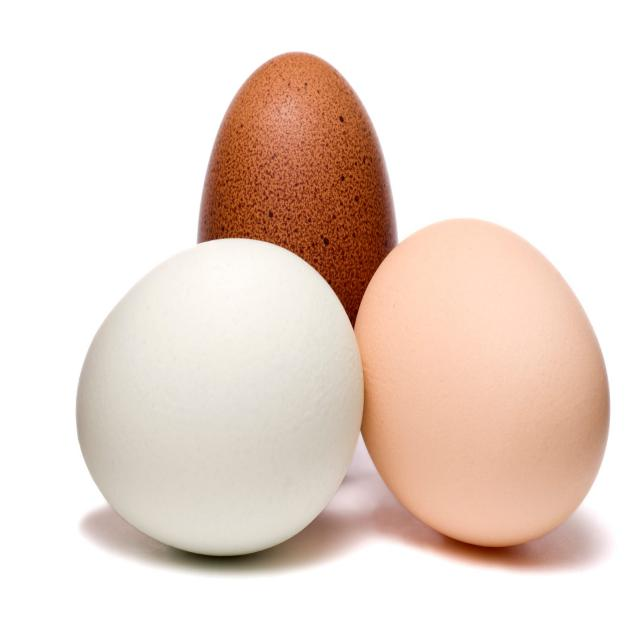egg: (75, 238, 364, 555), (355, 218, 611, 546)
